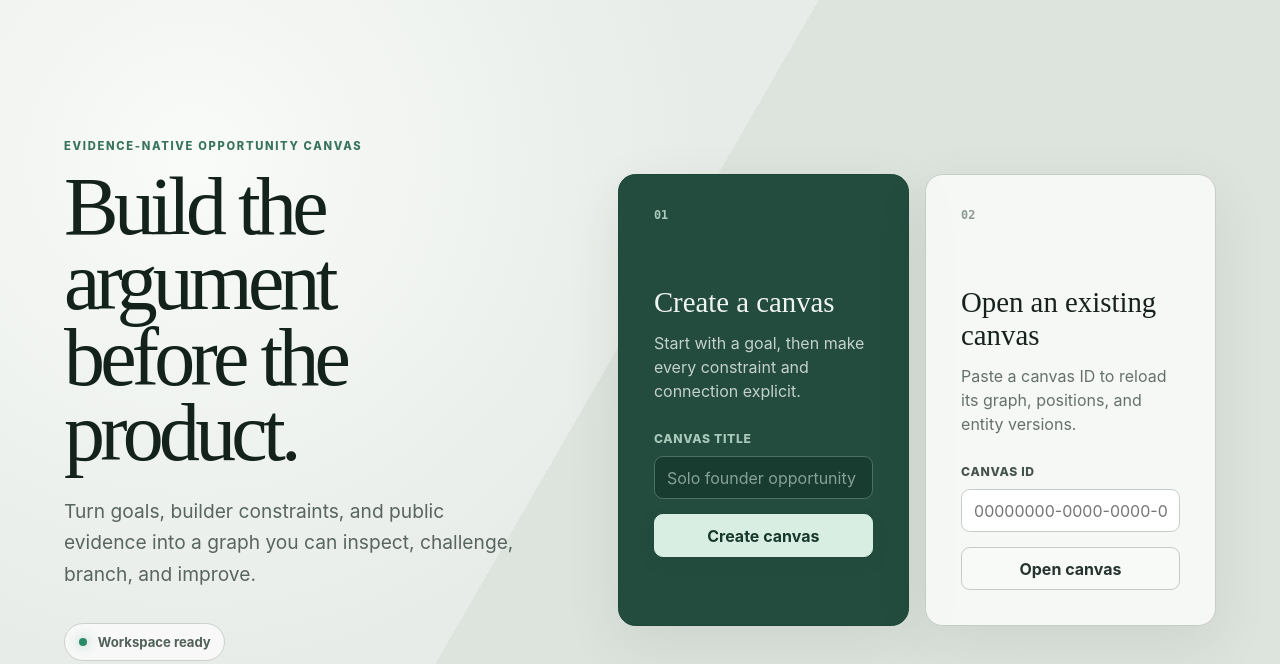
Test: App › recovers from a stale semantic edit by reloading current server state
The image size is (1280, 664).
Expected: the text "Workspace ready" is shown, [64,623,225,661]
Type "11111111-1111-4111-8111-111111111111" into the field labelled "Canvas ID" at [1070, 511], box [961,489,1180,532]
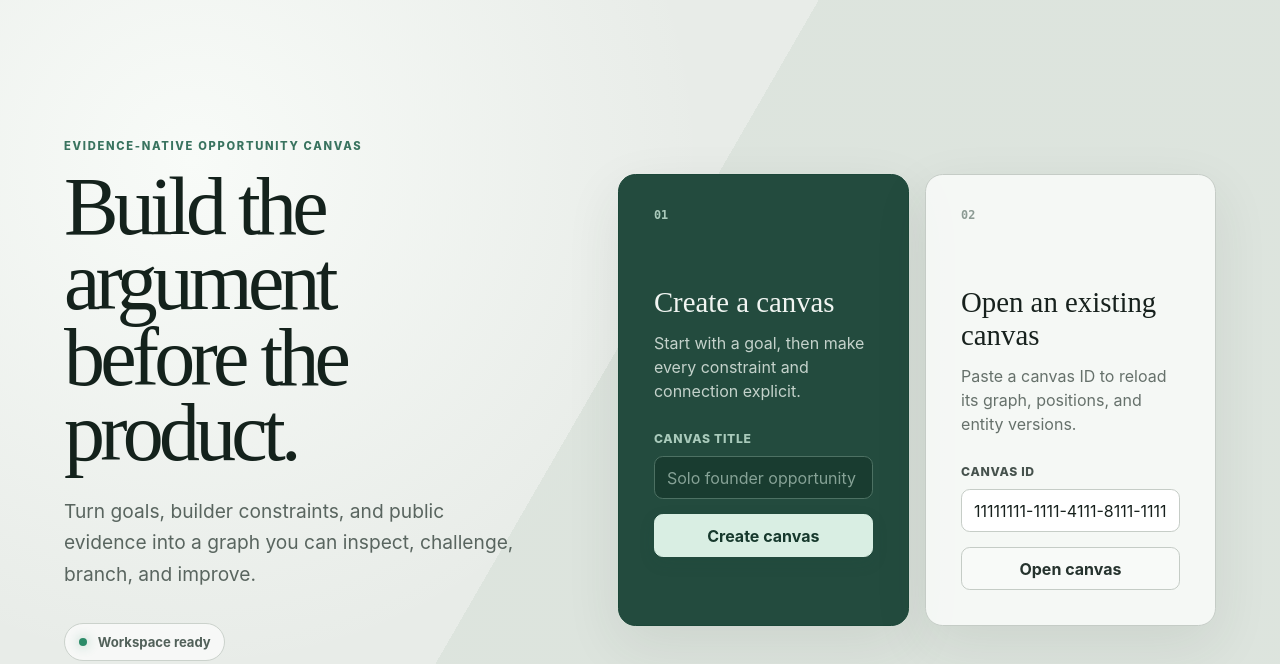
Click the button "Open canvas" at [1070, 569], box [961,547,1180,590]
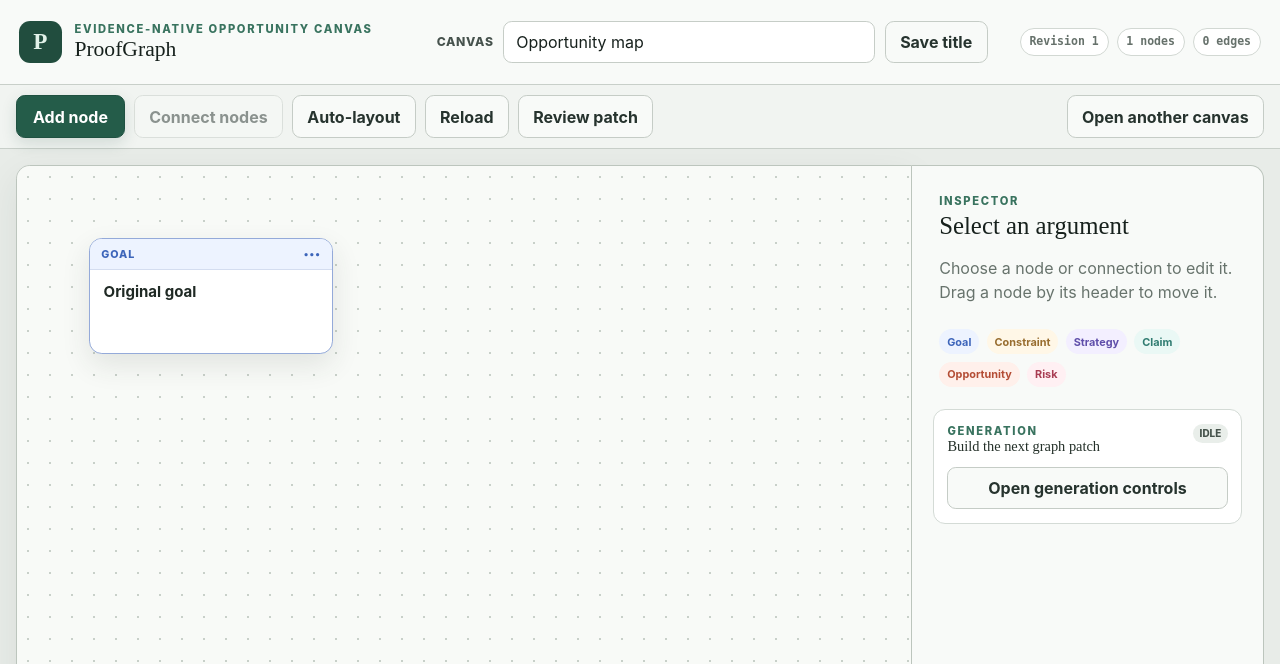
Result: the field showing "Opportunity map" is shown at [503,20,875,63]
Click the element showing "Goal ••• Original goal" at [211, 296], box [89,238,333,354]
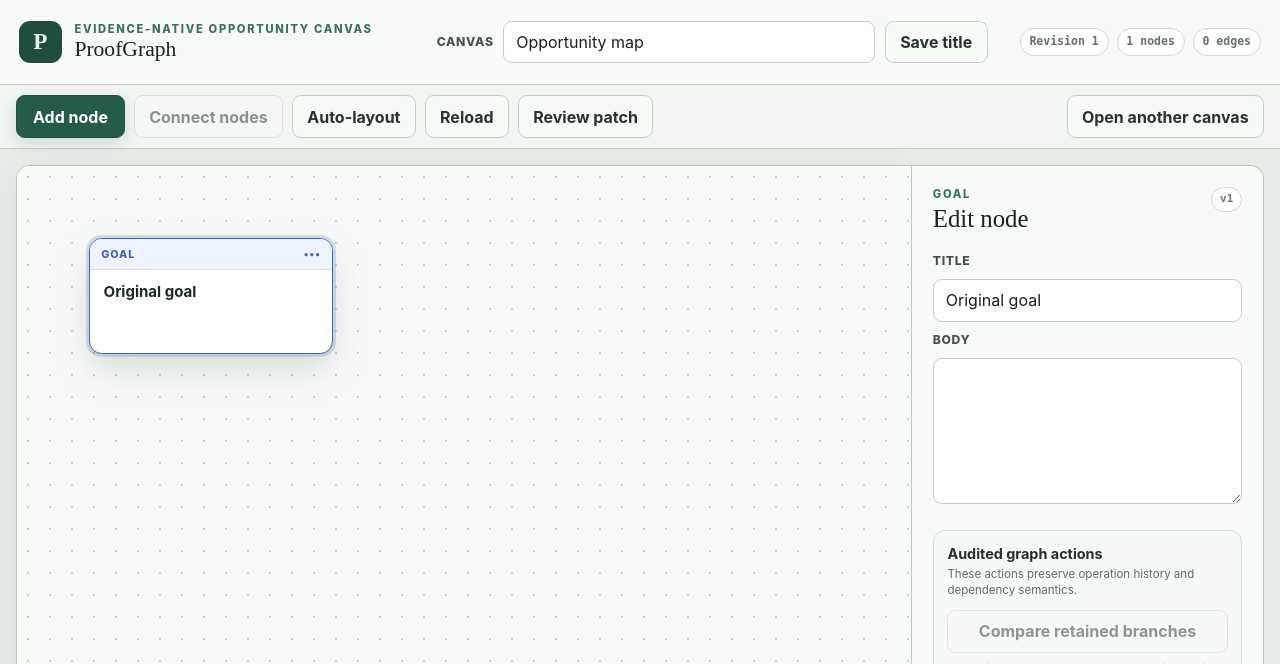
Replace the text in the field labelled "Title" with "Stale local edit" at [1088, 300], box [933,278,1242,322]
(page scrolled)
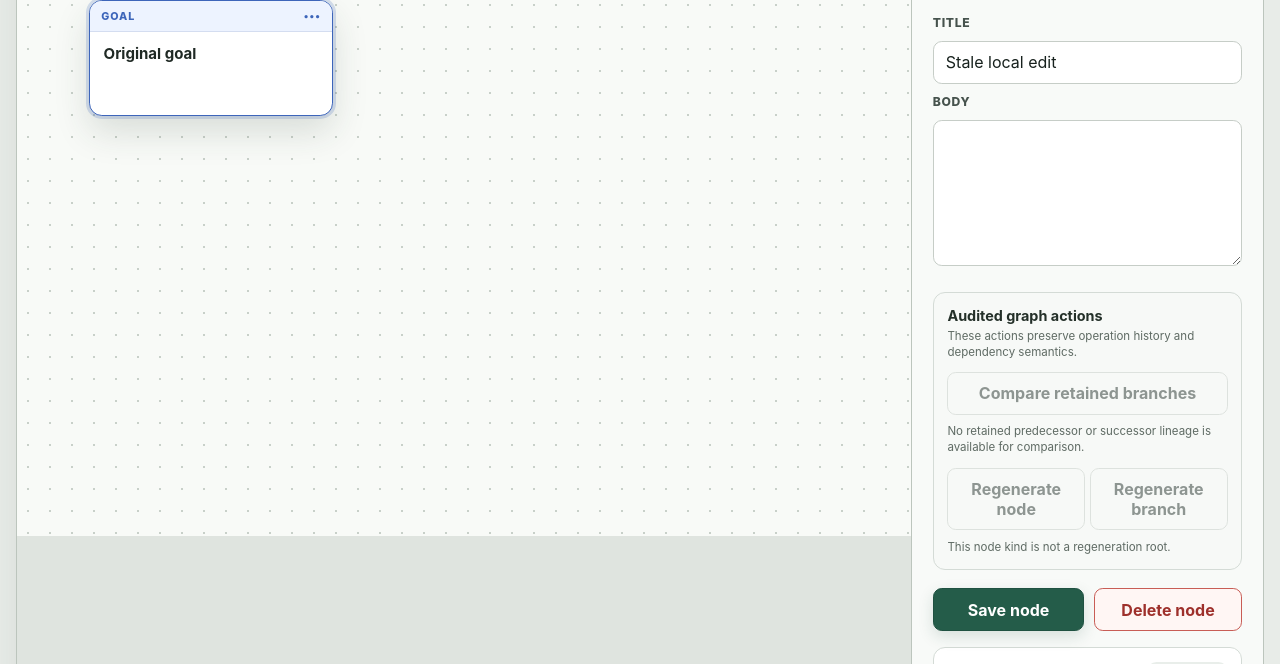
Click the button "Save node" at [1009, 610], box [933,588,1084,631]
(page scrolled)
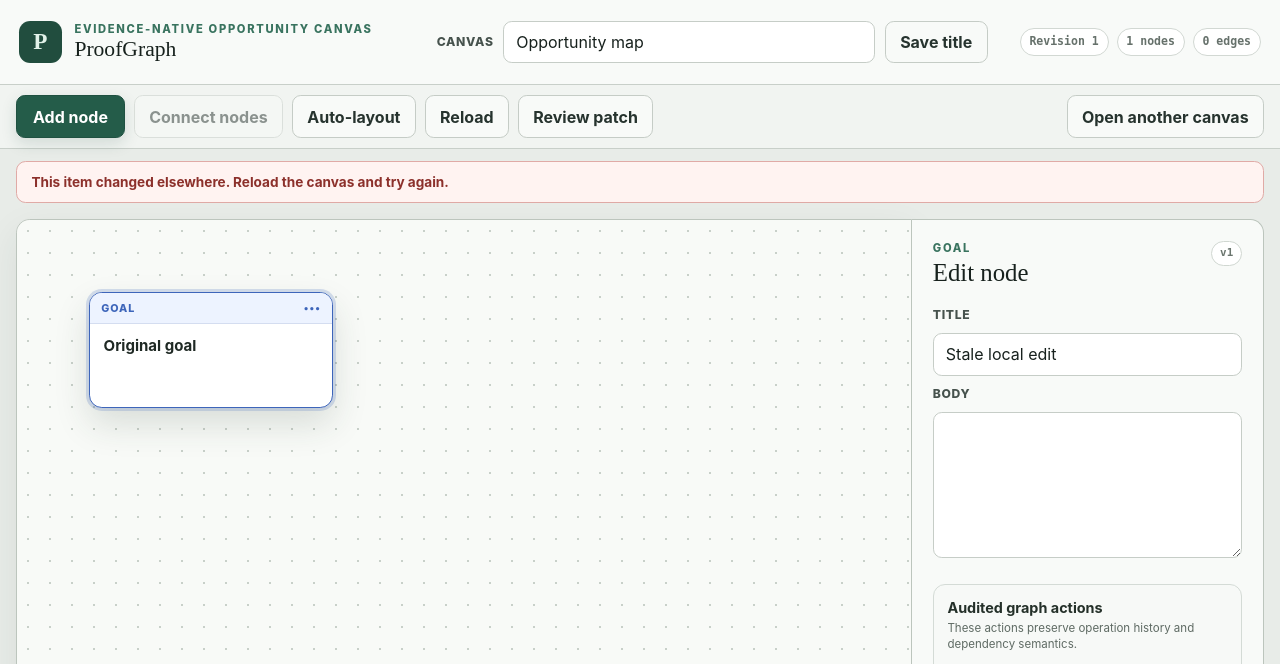
Result: the heading "Original goal" is shown at [104,336,196,355]
Result: the text "This item changed elsewhere. Reload the canvas and try again." is shown at [16,161,1264,203]
Click the button "Reload" at [467, 117], box [425,95,509,138]
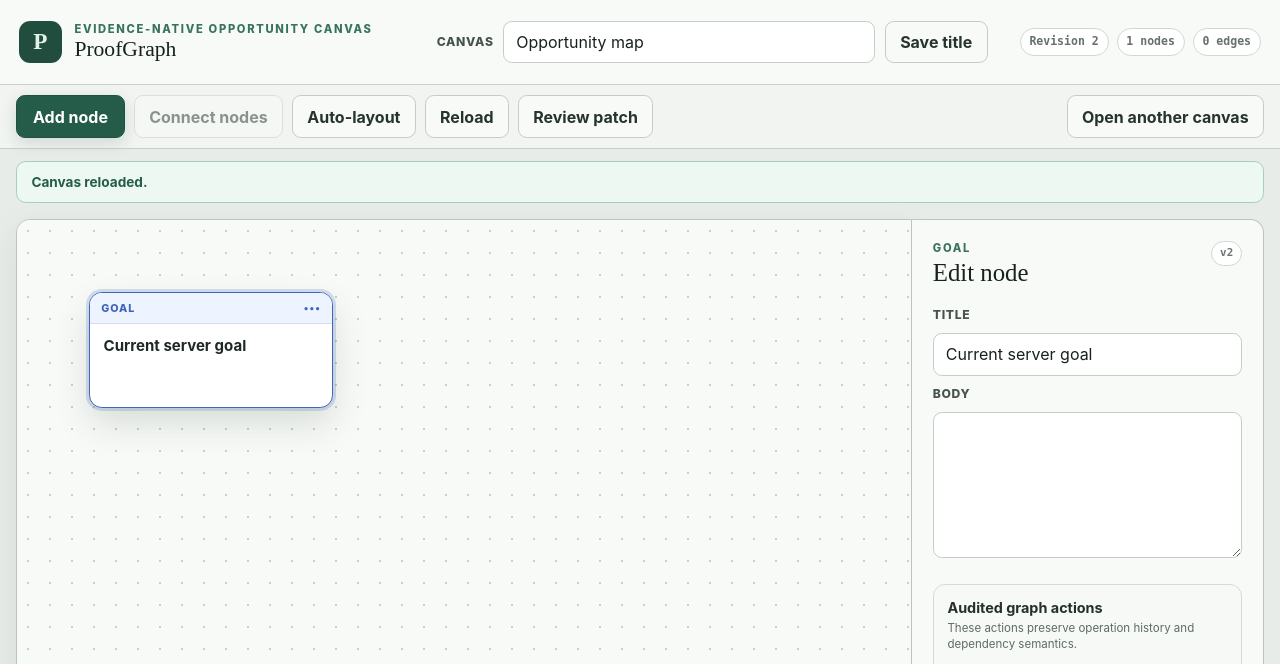
Result: the text "Canvas reloaded." is shown at [16,161,1264,203]
Result: the field showing "Current server goal" is shown at [933,332,1242,376]
Result: the heading "Original goal" is gone
